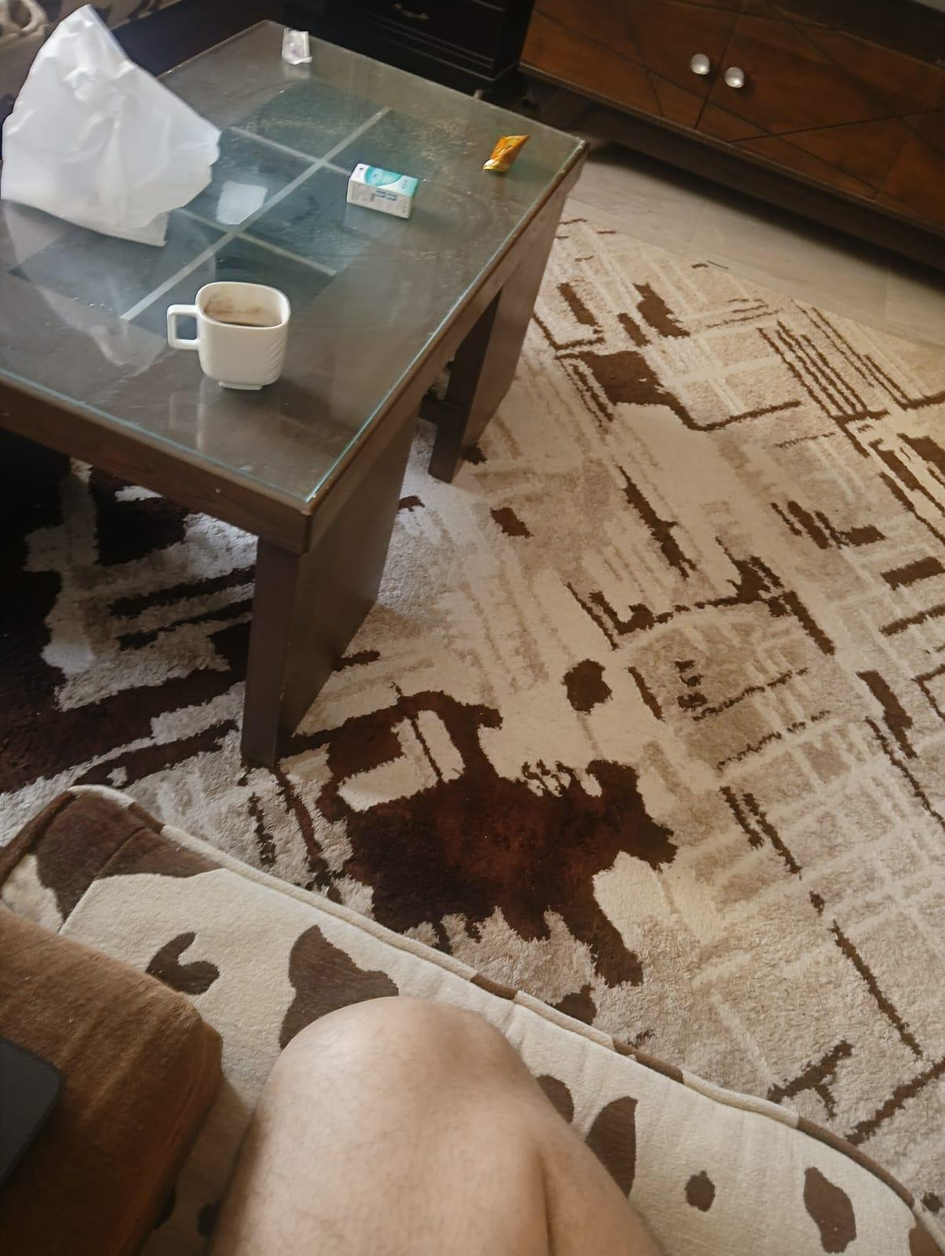cup: (167, 281, 290, 389)
